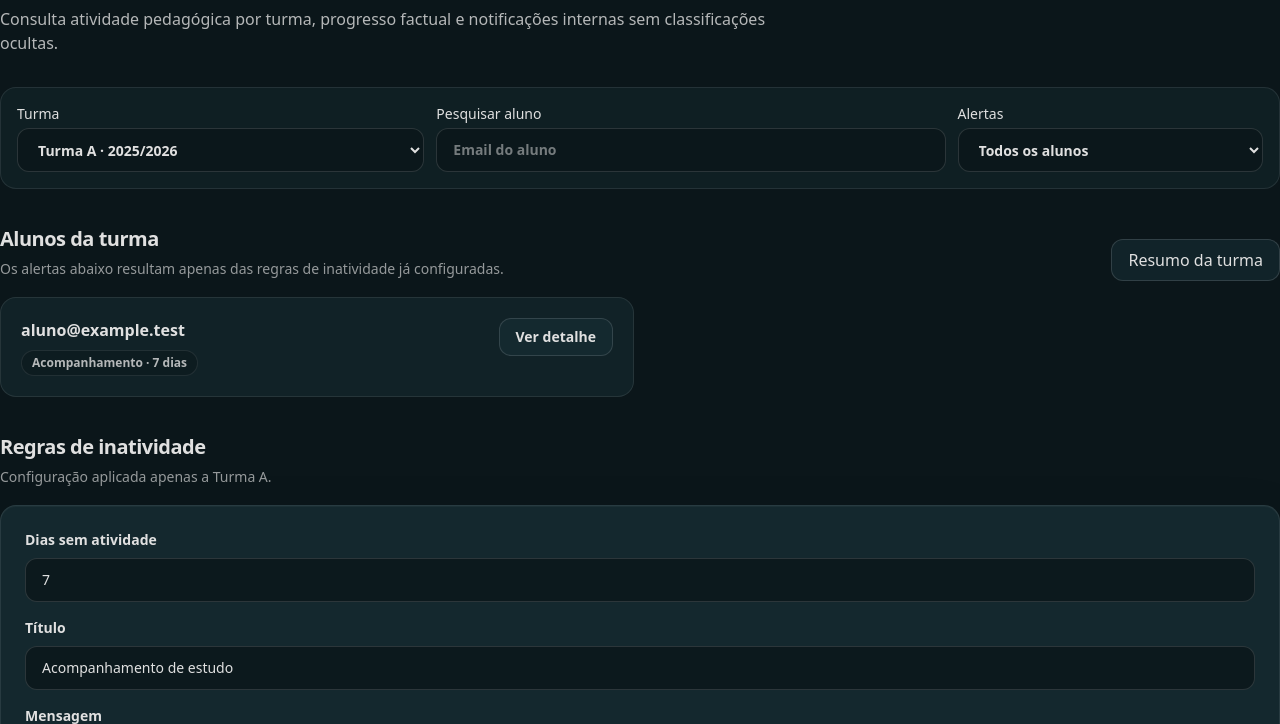
Test: FollowUpAlertsPanel › valida o intervalo dos dias antes de contactar a API
Replace the text in the number field labelled "Dias sem atividade" with "0". click: (640, 580)
box: [25,558,1255,602]
(page scrolled)
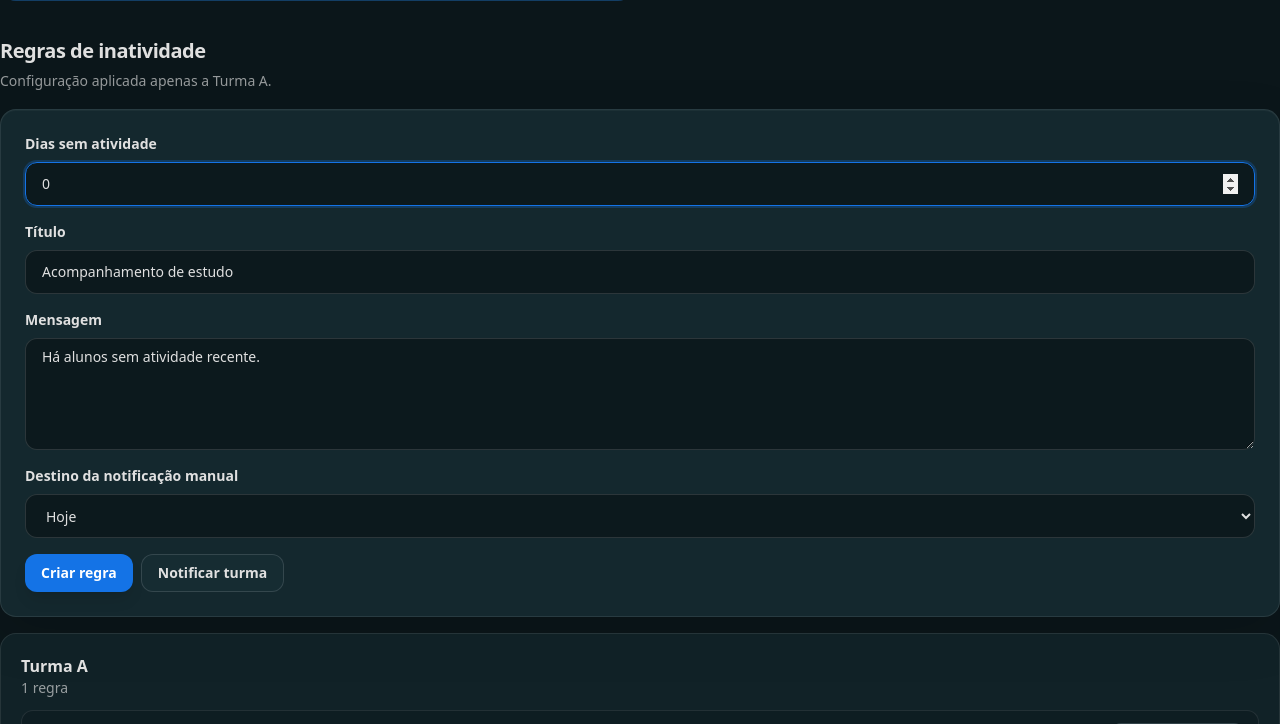
Submit the form "Criar regra"
(page scrolled)
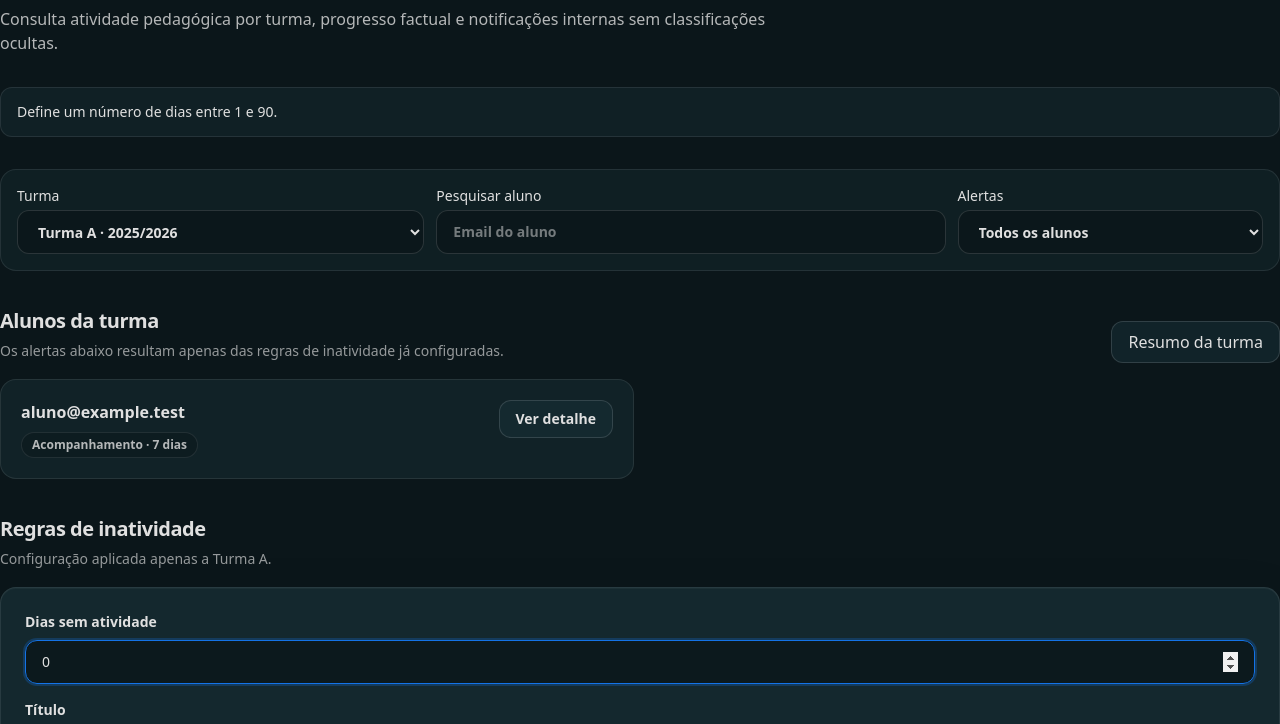
Check: the message reads "Define um número de dias entre 1 e 90.", box [17,102,277,121]
